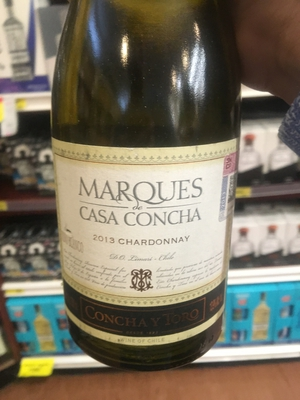marques de casa concha chardonnay: (51, 7, 245, 339)
